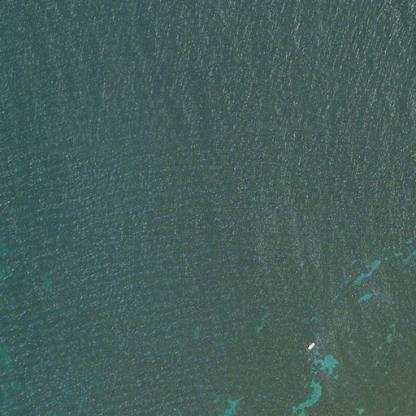ship: (290, 341, 298, 350)
